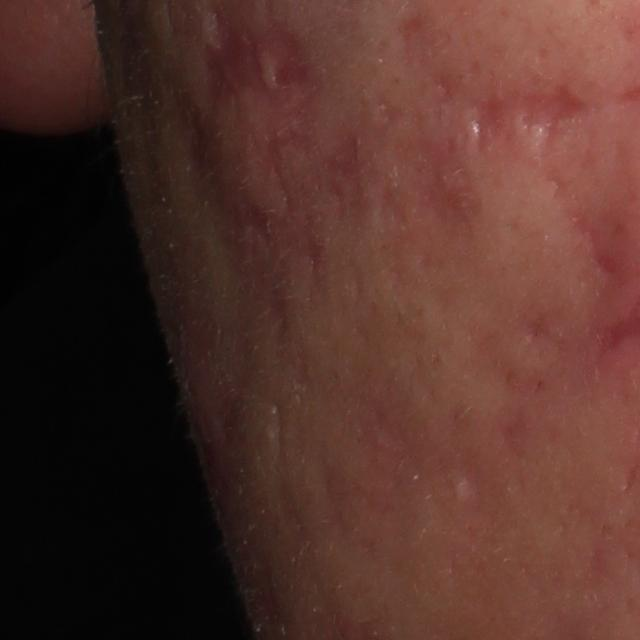atrophic_scar: (368, 107, 492, 254), (547, 173, 626, 291), (469, 82, 591, 150), (451, 315, 521, 390)
hypertrophic_scar: (506, 105, 552, 165), (257, 46, 281, 99)
